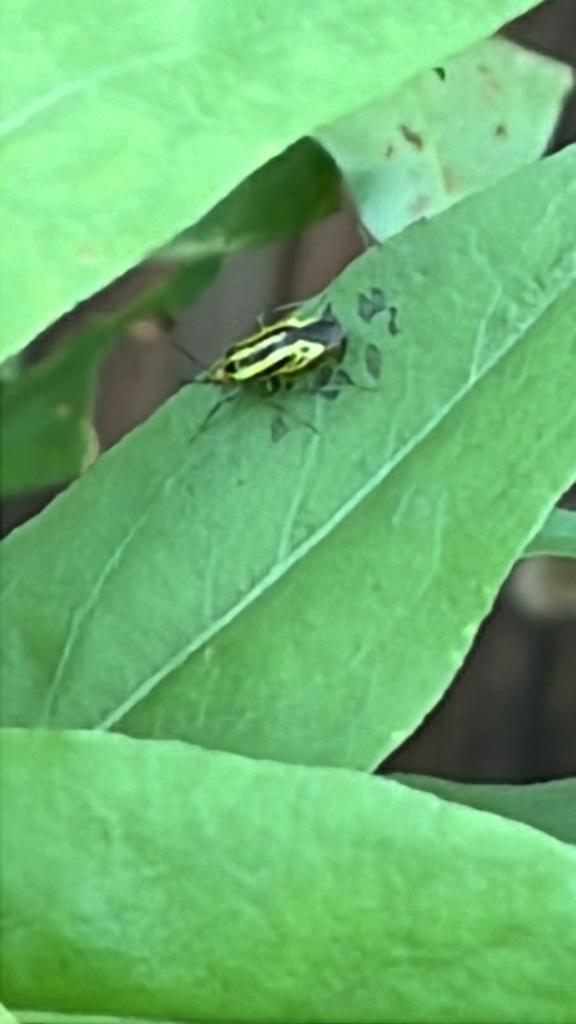plant_bugs: (134, 266, 383, 464)
